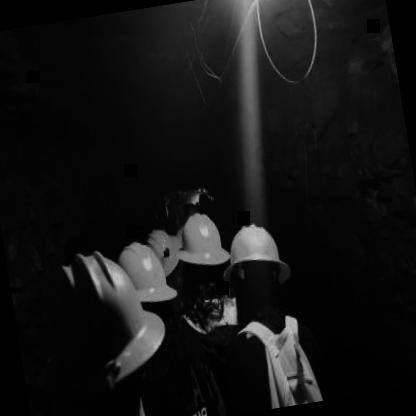helmet: (27, 239, 174, 416), (218, 210, 294, 324), (170, 202, 235, 298)
